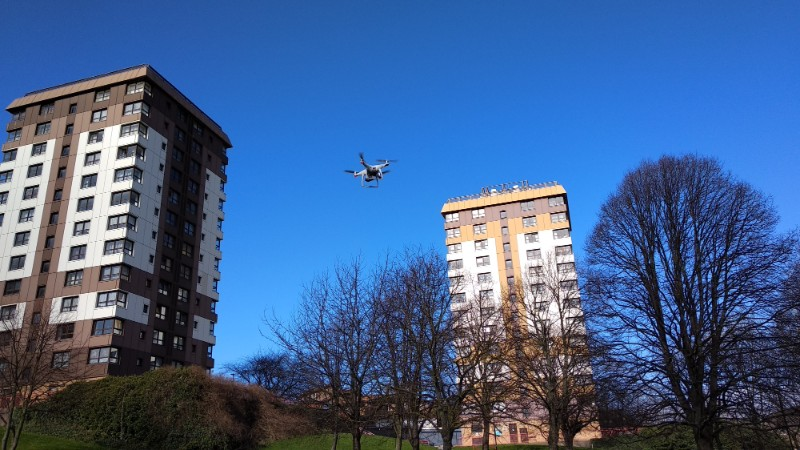drone: (344, 151, 400, 189)
